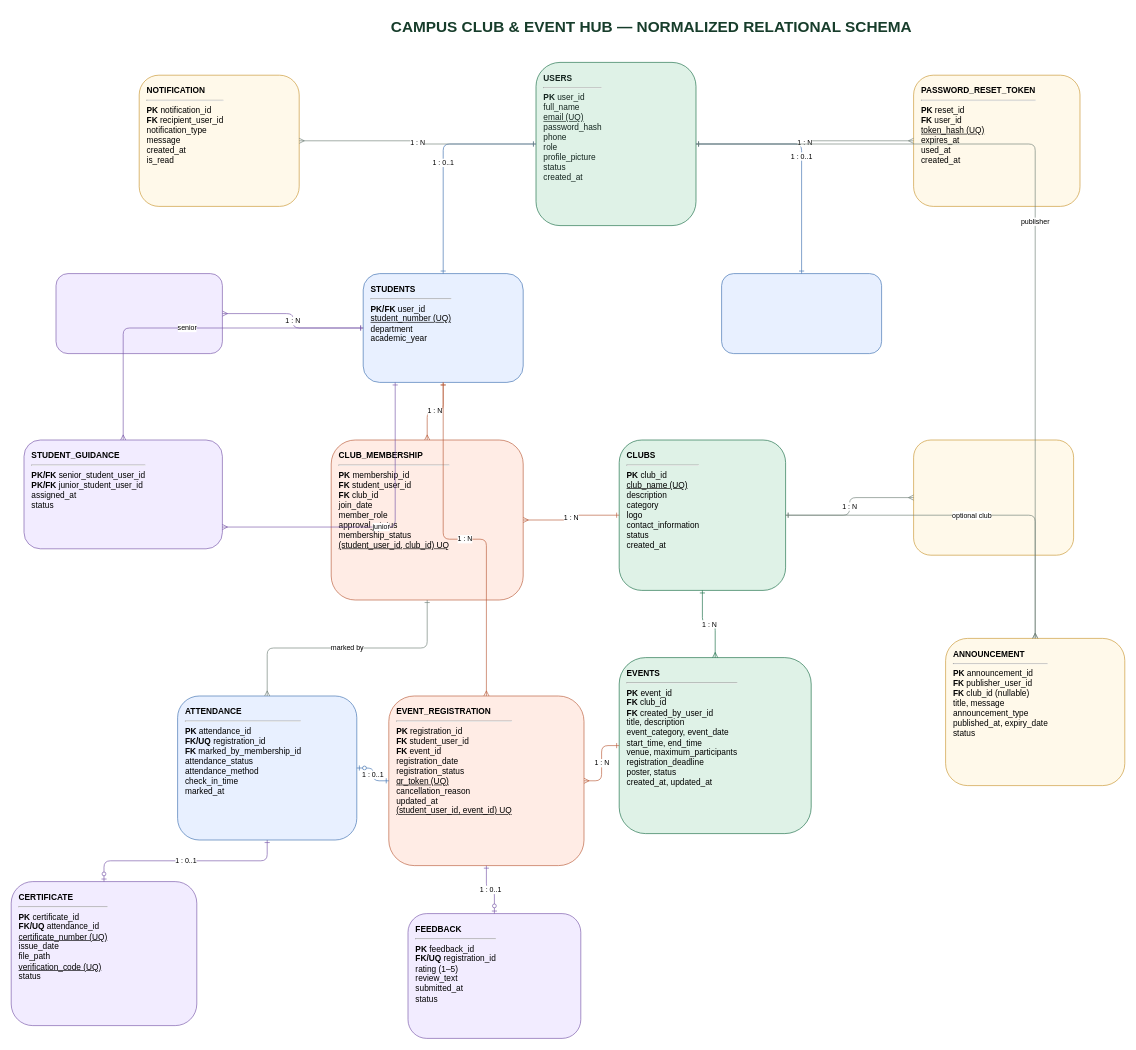
The diagram is 1136 pixels wide and 1050 high, and some of its shapes have lost their labels. The shapes that lost their labels are listed below. From the top down, each one's centre as x and y in pixels, then its label:
At point (138, 313): "STUDENT_INTEREST PK/FK student_user_id PK interest".
At point (801, 313): "ADMINISTRATORS PK/FK user_id admin_role".
At point (993, 497): "CLUB_GALLERY PK photo_id FK club_id photo_path caption uploaded_at".
